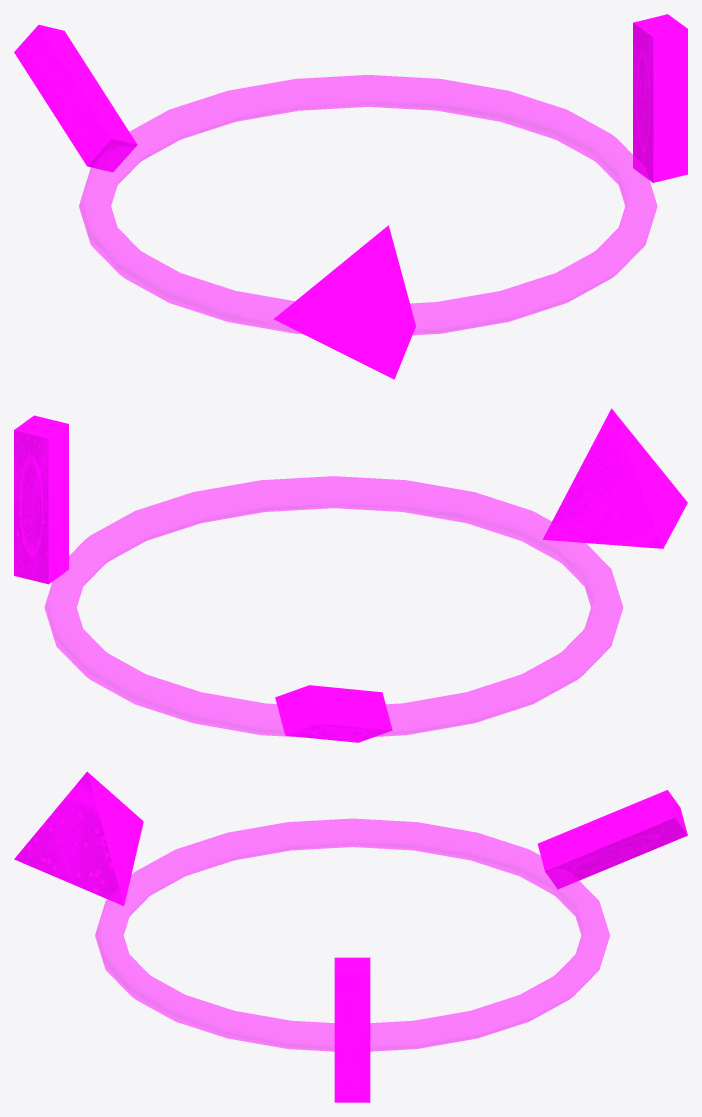
Rendered from miranda-archive-note.collider.glb.
3 renders of one model, top to bottom at view 1: azimuth 30°, elevation 25°; view 2: azimuth 150°, elevation 25°; view 3: azimuth 270°, elevation 25°, orthographic. The views are drawn at different scales.
Parts seen in each view (by area): view 1: story-marker-magenta-transparent|#ff00ff|#ff00ff|0.38|1|0.04, story-marker-magenta-body; view 2: story-marker-magenta-transparent|#ff00ff|#ff00ff|0.38|1|0.04, story-marker-magenta-body; view 3: story-marker-magenta-transparent|#ff00ff|#ff00ff|0.38|1|0.04, story-marker-magenta-body.
Boxes of the visible parts, left/top/right/bottom form: story-marker-magenta-transparent|#ff00ff|#ff00ff|0.38|1|0.04: left=79, top=75, right=657, bottom=335; story-marker-magenta-body: left=14, top=14, right=687, bottom=379; story-marker-magenta-transparent|#ff00ff|#ff00ff|0.38|1|0.04: left=44, top=476, right=623, bottom=737; story-marker-magenta-body: left=14, top=408, right=687, bottom=742; story-marker-magenta-transparent|#ff00ff|#ff00ff|0.38|1|0.04: left=95, top=818, right=609, bottom=1051; story-marker-magenta-body: left=14, top=771, right=687, bottom=1102.
Size of the model in its own units: 0.805 by 0.2171 by 0.942.
2 materials, 2 textured.
